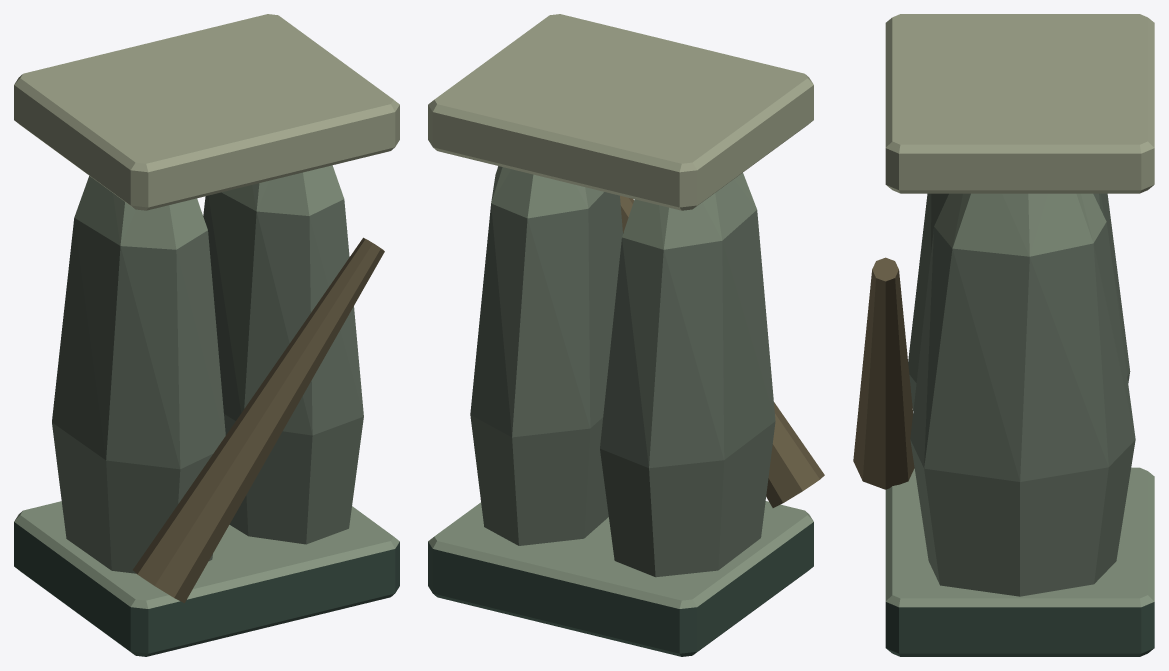
The model's file is wall-end.glb.
3 views of the same model, side by side, from view 1: azimuth 30°, elevation 25°; view 2: azimuth 150°, elevation 25°; view 3: azimuth 270°, elevation 25° (orthographic). The views are drawn at different scales.
Visible parts, largest first — view 1: wall-end__body; view 2: wall-end__body; view 3: wall-end__body.
Part boxes in pixels (x1,y1,x2,y2): wall-end__body: (14,14,399,656); wall-end__body: (428,14,824,656); wall-end__body: (853,14,1154,656).
Size of the model in its own units: 0.6057 by 1.05 by 0.56.
